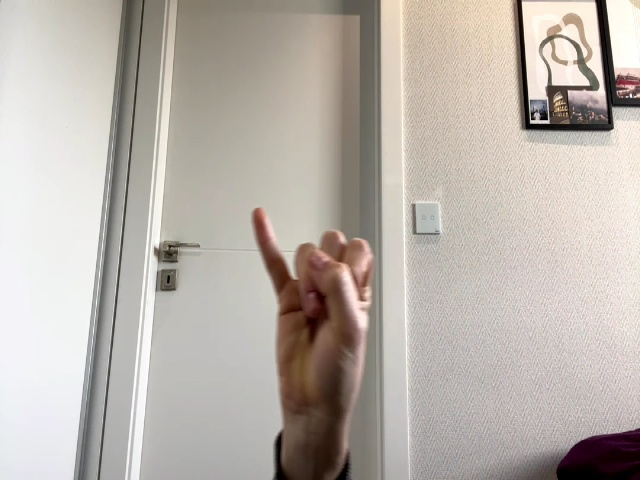I: (252, 207, 375, 407)
